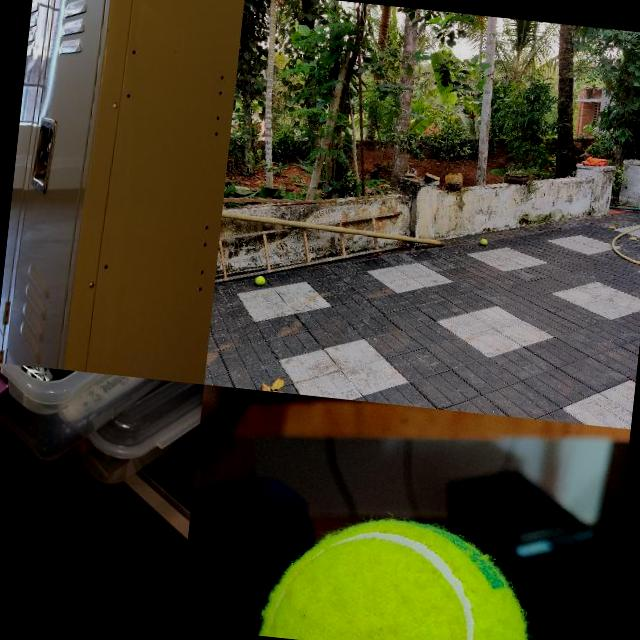tennis-ball: (260, 506, 542, 640), (254, 275, 266, 285), (480, 238, 488, 246)
